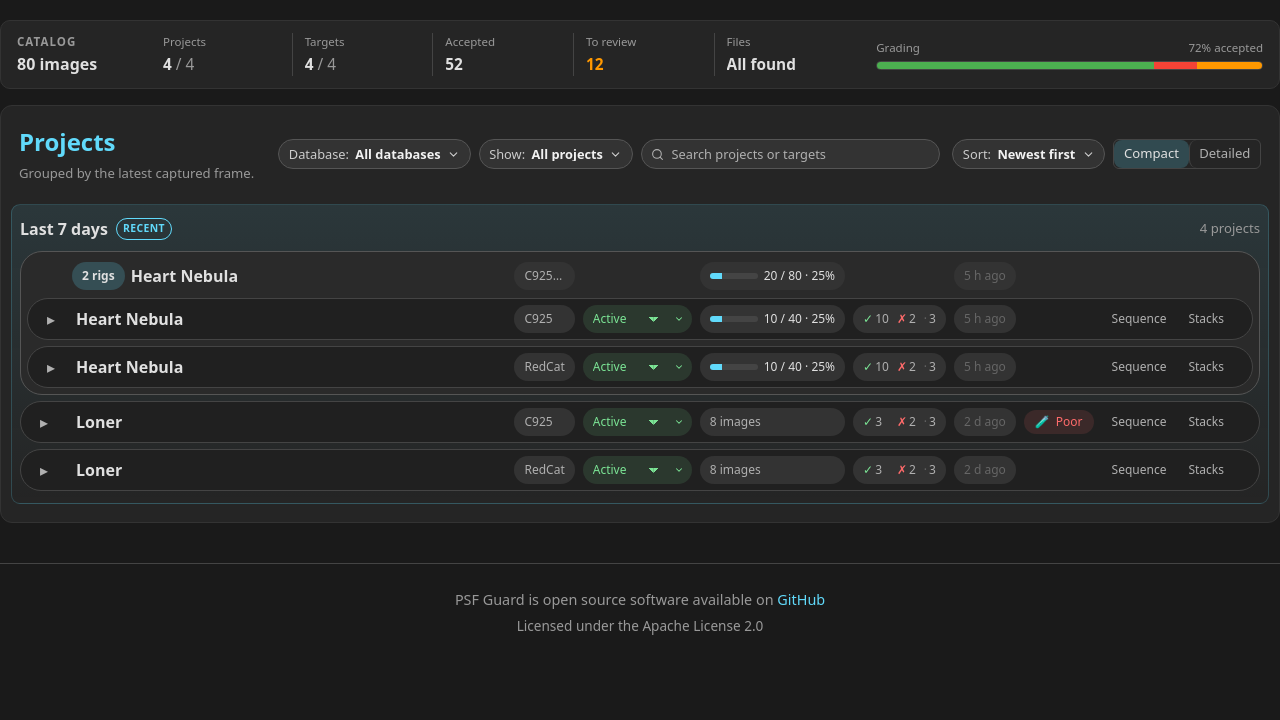
Test case: compact Library › flags calibration with a pill that opens the report, and Show narrows to it
Click the button "🧪 Poor".
click(1059, 422)  # box [1024,410,1094,434]
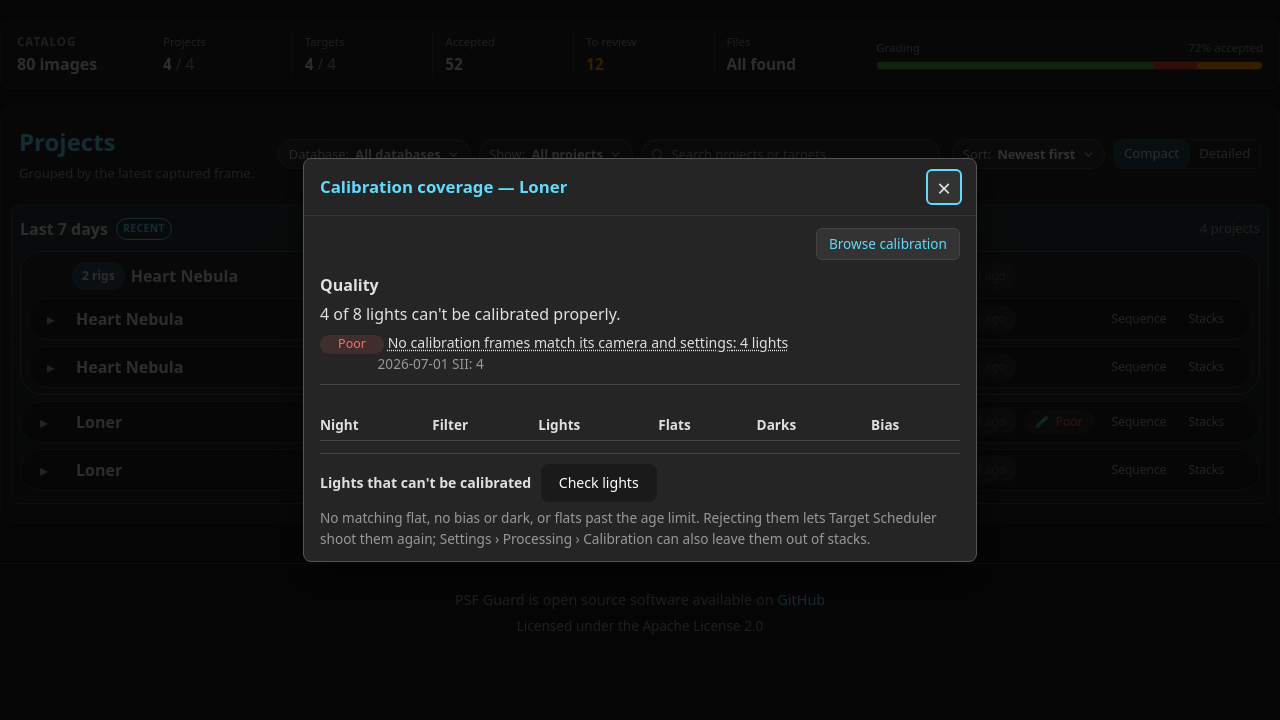
Expected: the button "No calibration frames match its camera and settings: 4 lights" is shown, [388,332,788,353]
Expected: the text "2026-07-01 SII: 4" is shown, [378,354,484,373]
